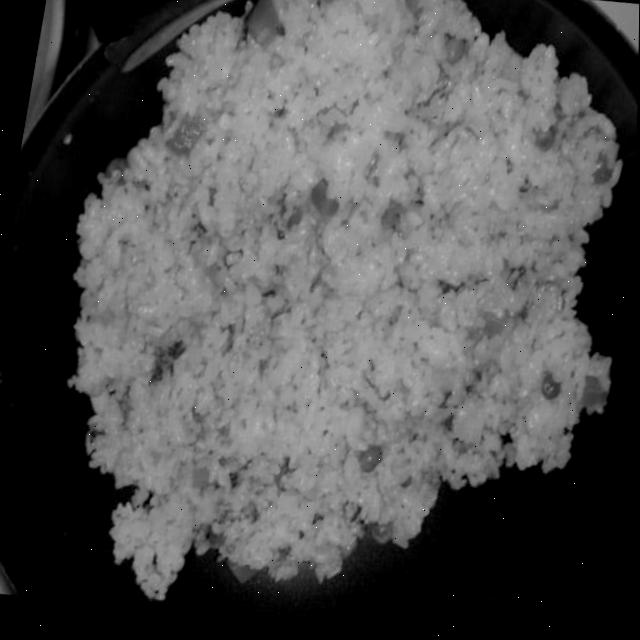米饭主食: (1, 0, 640, 640)
